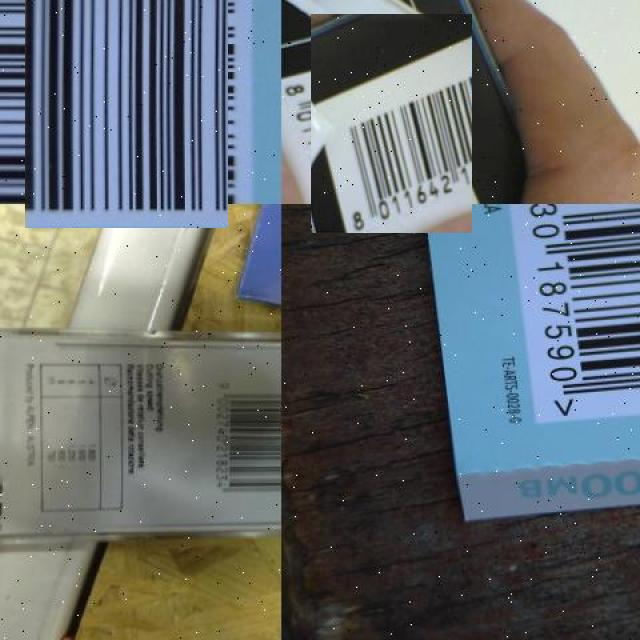Barcode: (12, 0, 240, 216), (296, 28, 487, 219), (506, 203, 640, 421), (199, 366, 281, 514)
